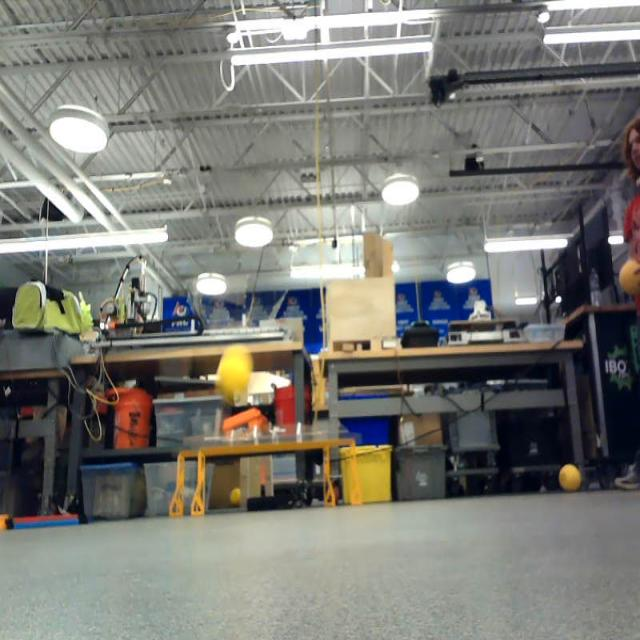Fuel: (218, 354, 250, 395), (620, 261, 640, 294), (561, 465, 579, 492), (230, 488, 243, 506)
